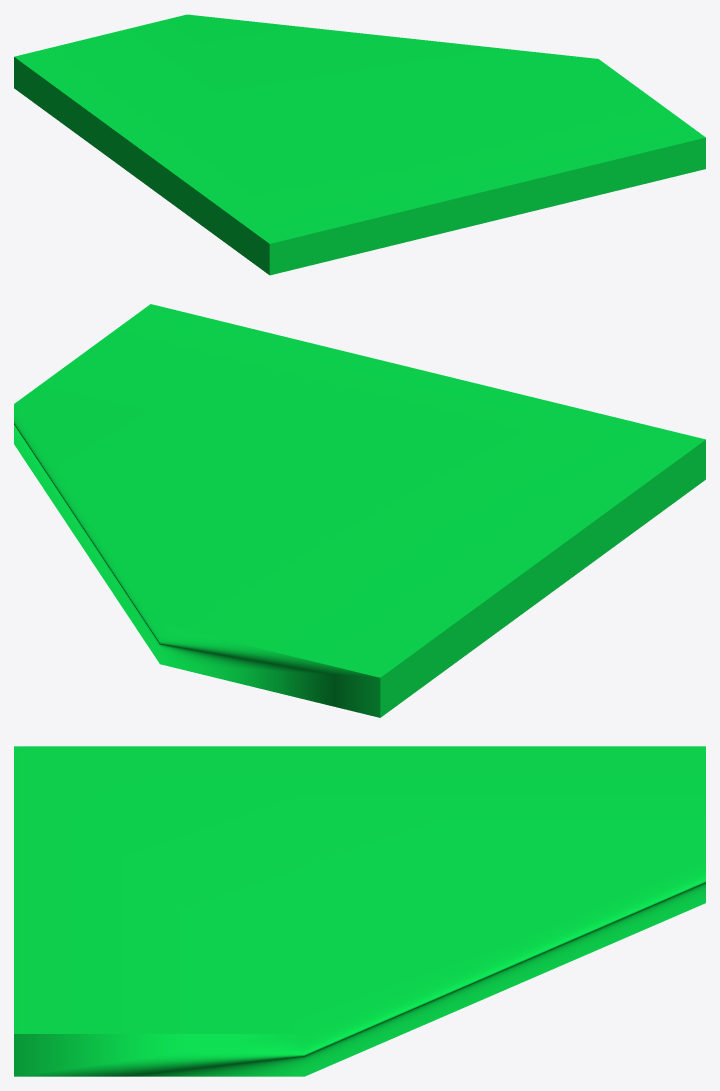
File: Floor_02_Collider.fbx
3 renders of one model, top to bottom at view 1: azimuth 30°, elevation 25°; view 2: azimuth 150°, elevation 25°; view 3: azimuth 270°, elevation 25°, orthographic. The views are drawn at different scales.
Visible parts, largest first — view 1: Floor_02_Collider; view 2: Floor_02_Collider; view 3: Floor_02_Collider.
Boxes of the visible parts, x1,y1,x2,y2 form: Floor_02_Collider: (14, 14, 705, 275); Floor_02_Collider: (14, 304, 705, 717); Floor_02_Collider: (14, 746, 705, 1076).
Size of the model in its own units: 1561 by 108 by 1585.
